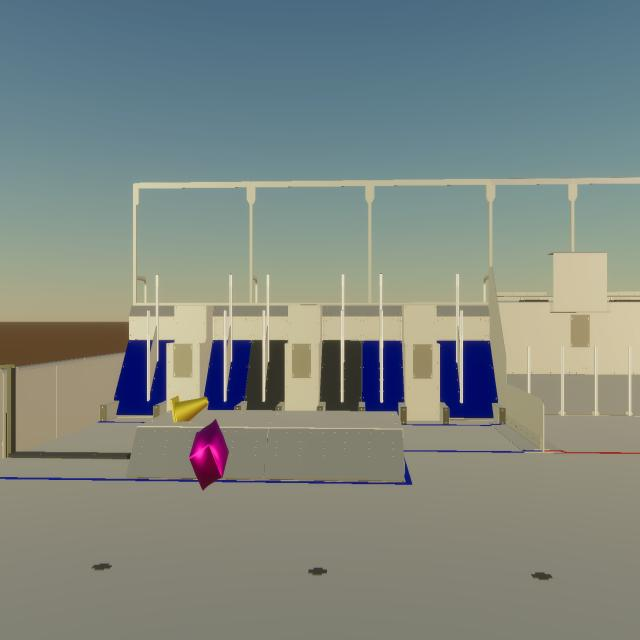frc_cone: (170, 396, 208, 422)
frc_cube: (189, 419, 229, 491)
